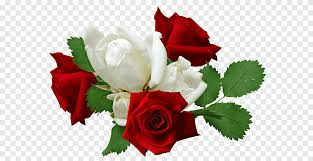rose: (49, 6, 223, 152)
